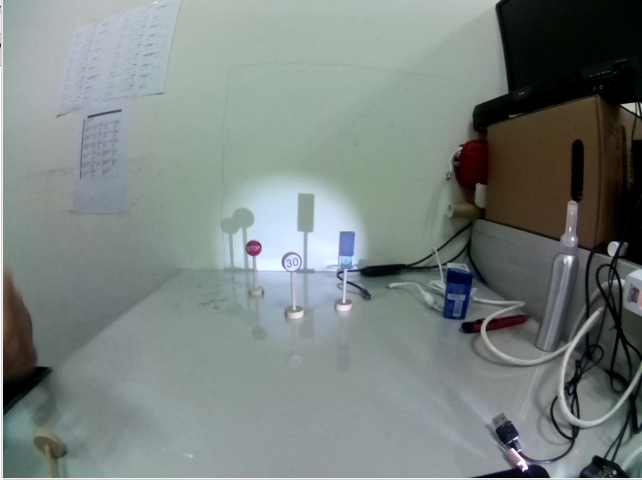Green: (338, 226, 356, 276)
Speed30: (281, 249, 304, 275)
Stop: (242, 237, 263, 262)
